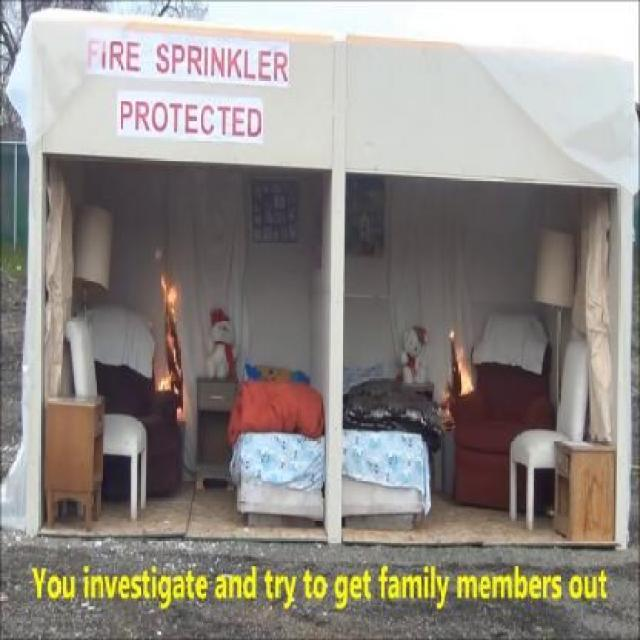fire: (150, 266, 199, 426), (445, 326, 473, 396)
